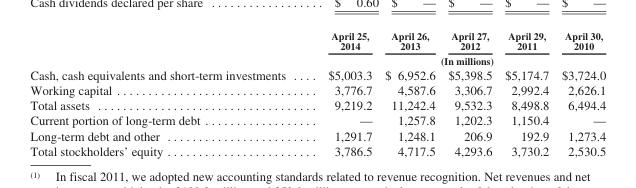table: (29, 29, 605, 157)
table column: (29, 29, 306, 157), (306, 29, 377, 157), (377, 29, 441, 157), (497, 29, 554, 157), (441, 29, 497, 157), (554, 29, 605, 157)
table column header: (29, 29, 605, 66)
table row: (29, 29, 605, 52), (29, 66, 605, 82), (29, 82, 605, 97), (29, 97, 605, 112), (29, 112, 605, 127), (29, 127, 605, 142), (29, 142, 605, 157), (29, 52, 605, 66)
table spanning cell: (306, 52, 605, 66)
